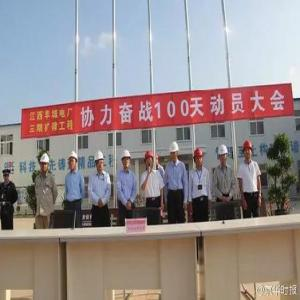red: (243, 140, 254, 162), (145, 150, 155, 170)
white: (69, 151, 79, 172), (122, 150, 132, 170), (96, 151, 105, 172), (41, 153, 50, 173), (171, 142, 180, 162), (220, 146, 229, 166)
